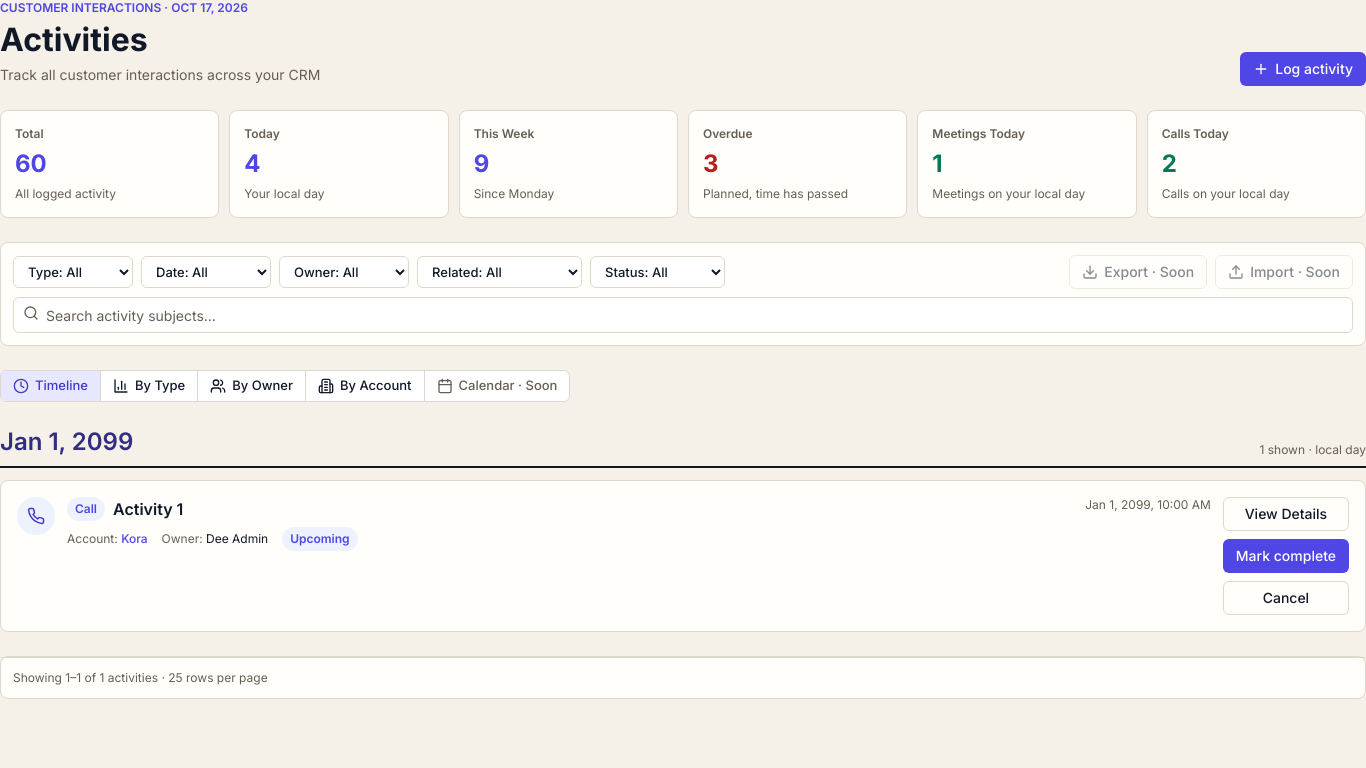
Test: Activities — server page, server counts, real filters › Cancel confirms, then saves status cancelled; a refusal is shown
This screenshot has width=1366, height=768.
Click the button "Cancel": [1286, 598] box [1223, 581, 1349, 615]
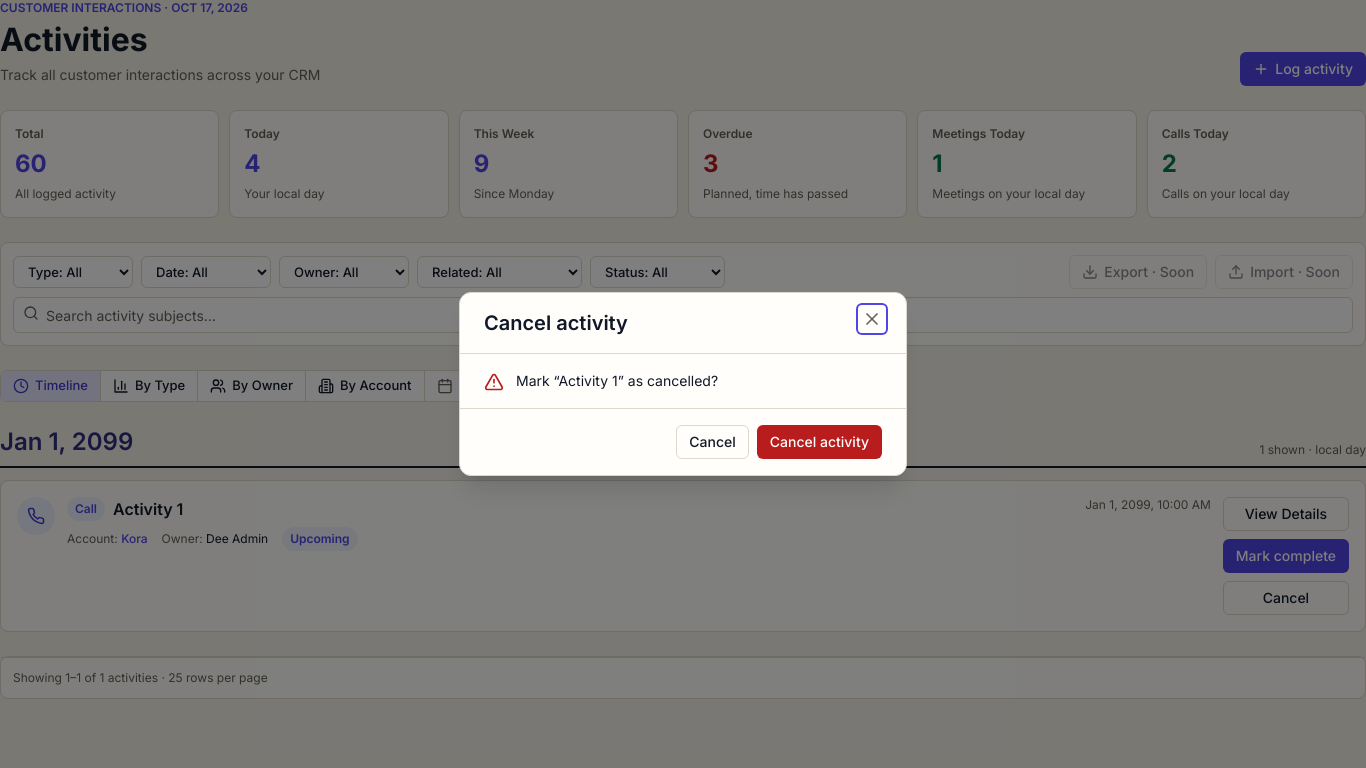
Click the button "Cancel activity": [819, 442] box [757, 425, 882, 459]
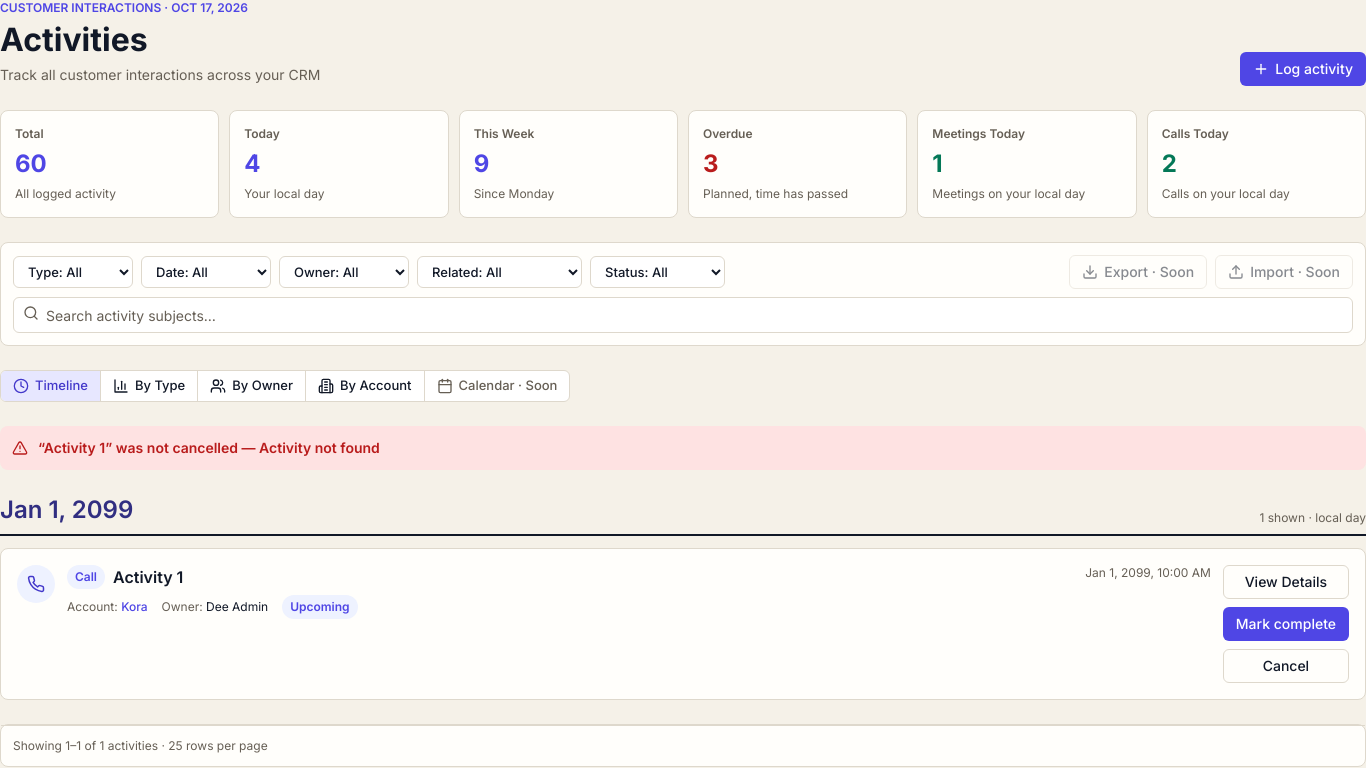
Check: the text "“Activity 1” was not cancelled — Activity not found" is shown, box [38, 439, 380, 456]
